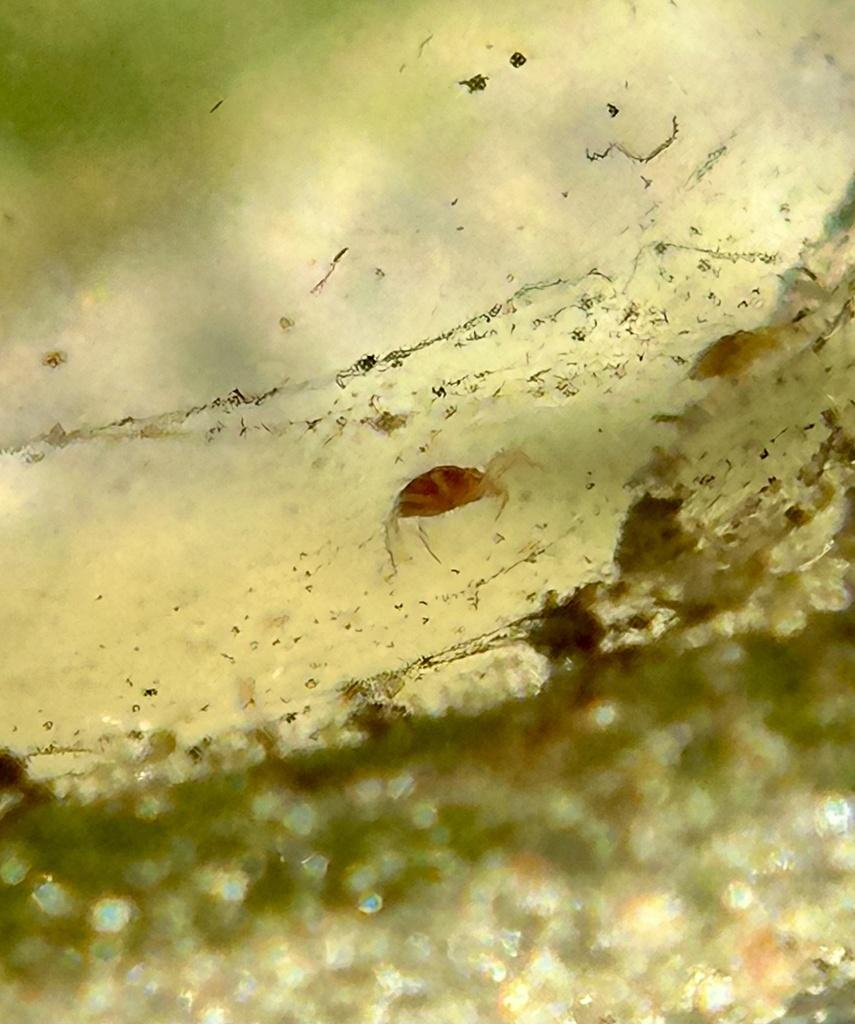tiny_pests: (351, 426, 544, 586)
